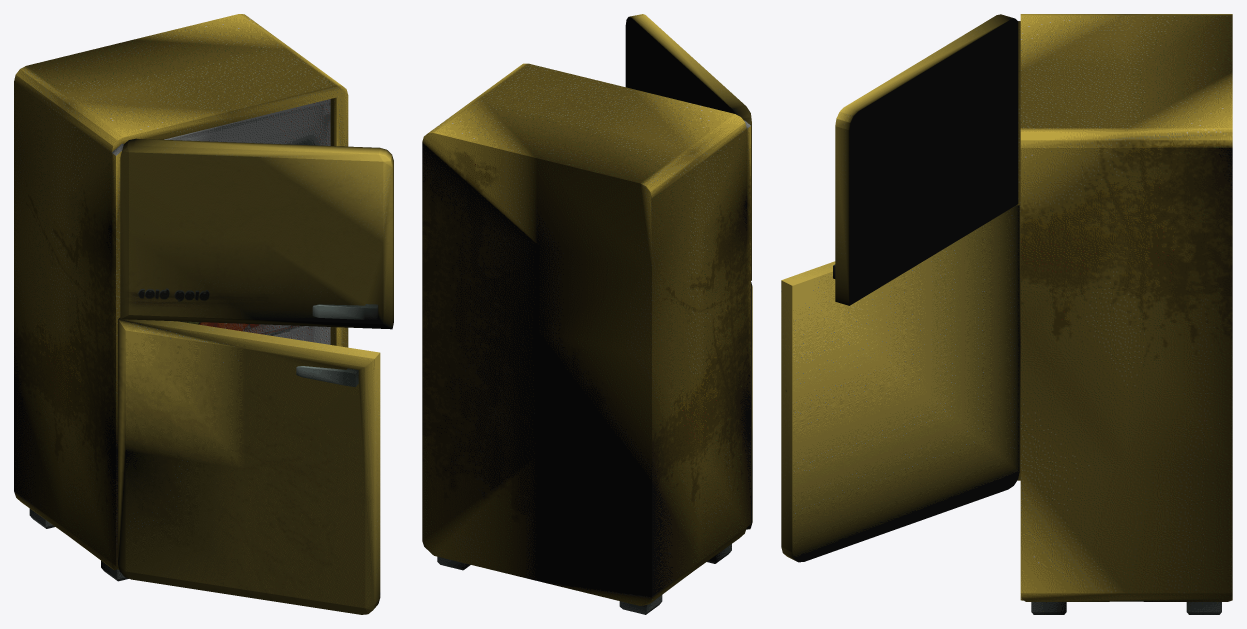
File: LD56_Fridge.fbx
3 renders of one model, left to right at view 1: azimuth 30°, elevation 25°; view 2: azimuth 150°, elevation 25°; view 3: azimuth 270°, elevation 25°, orthographic. The views are drawn at different scales.
Parts seen in each view (by area): view 1: fridge, fridgeDoorLower, fridgeDoorUpper; view 2: fridge, fridgeDoorUpper, fridgeDoorLower; view 3: fridge, fridgeDoorLower, fridgeDoorUpper.
Boxes of the visible parts, x1,y1,x2,y2 form: fridge: (14, 14, 348, 581); fridgeDoorLower: (118, 318, 380, 614); fridgeDoorUpper: (120, 138, 393, 329); fridge: (422, 63, 750, 614); fridgeDoorUpper: (625, 14, 751, 280); fridgeDoorLower: (746, 282, 752, 529); fridge: (1016, 14, 1232, 614); fridgeDoorLower: (781, 205, 1019, 562); fridgeDoorUpper: (833, 14, 1018, 305).
Size of the model in its own units: 238 by 432 by 362.
